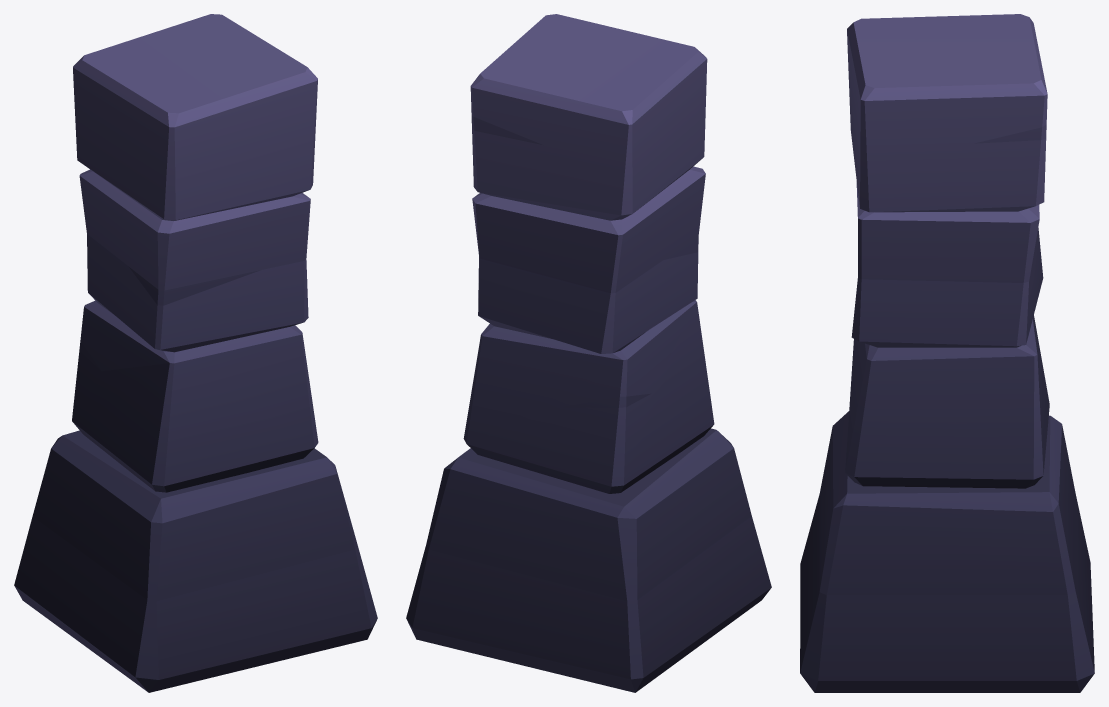
Rendered from column_2.glb.
The picture shows the model from 3 angles, left to right: view 1: azimuth 30°, elevation 25°; view 2: azimuth 150°, elevation 25°; view 3: azimuth 270°, elevation 25°; orthographic projection. The views are drawn at different scales.
Visible parts, largest first — view 1: column_2; view 2: column_2; view 3: column_2.
Part boxes in pixels (x1,y1,x2,y2): column_2: [14, 14, 377, 692]; column_2: [406, 14, 771, 692]; column_2: [800, 14, 1094, 692].
Size of the model in its own units: 2.18 by 4.81 by 2.18.
Materials: 1 (1 with a texture image).
